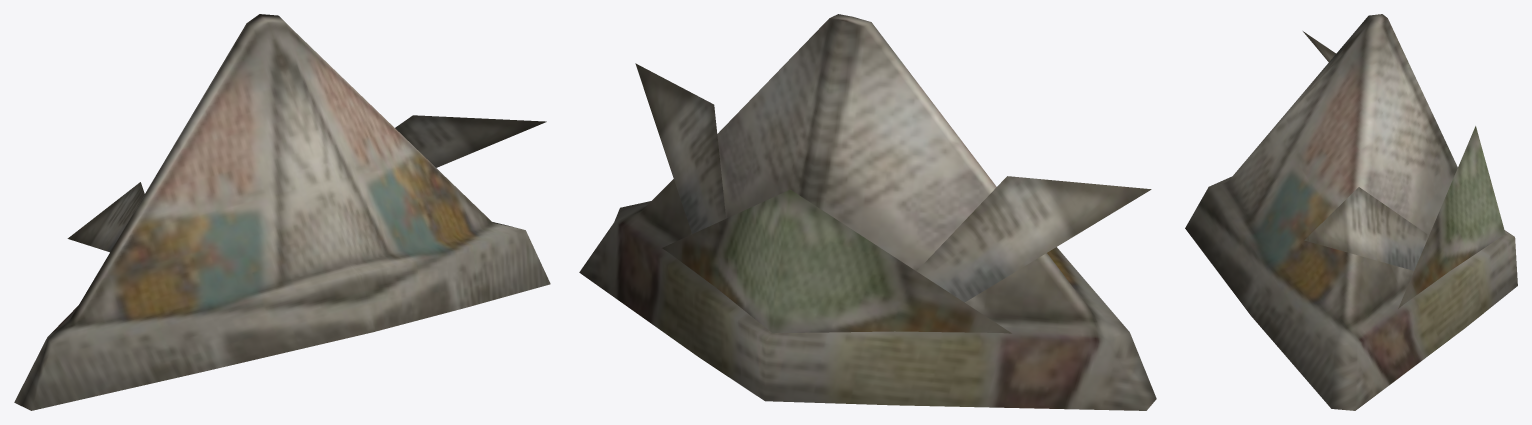
File: paperHat.glb
The picture shows the model from 3 angles, left to right: view 1: azimuth 30°, elevation 25°; view 2: azimuth 150°, elevation 25°; view 3: azimuth 270°, elevation 25°; orthographic projection. The views are drawn at different scales.
Visible parts, largest first — view 1: paperHat; view 2: paperHat; view 3: paperHat.
Boxes of the visible parts, <box> form: paperHat: <box>14,14,550,410</box>; paperHat: <box>579,14,1156,410</box>; paperHat: <box>1185,14,1517,410</box>.
Size of the model in its own units: 0.4025 by 0.2273 by 0.2463.
1 material, 1 textured.
